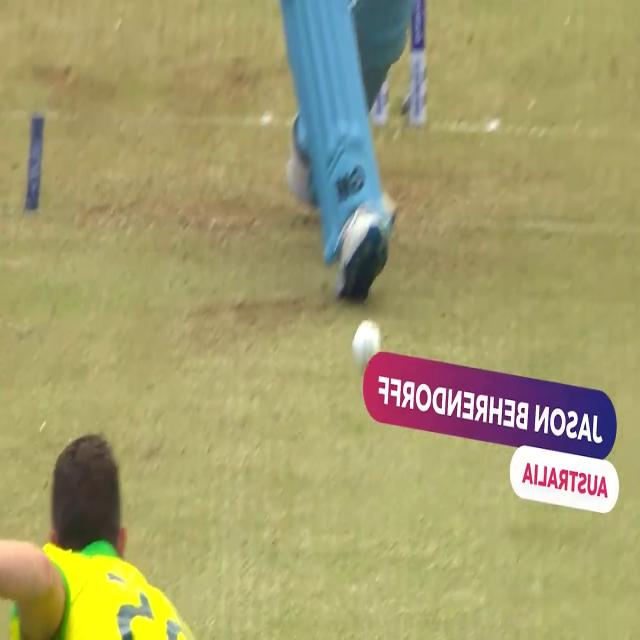ball: (347, 306, 385, 372)
